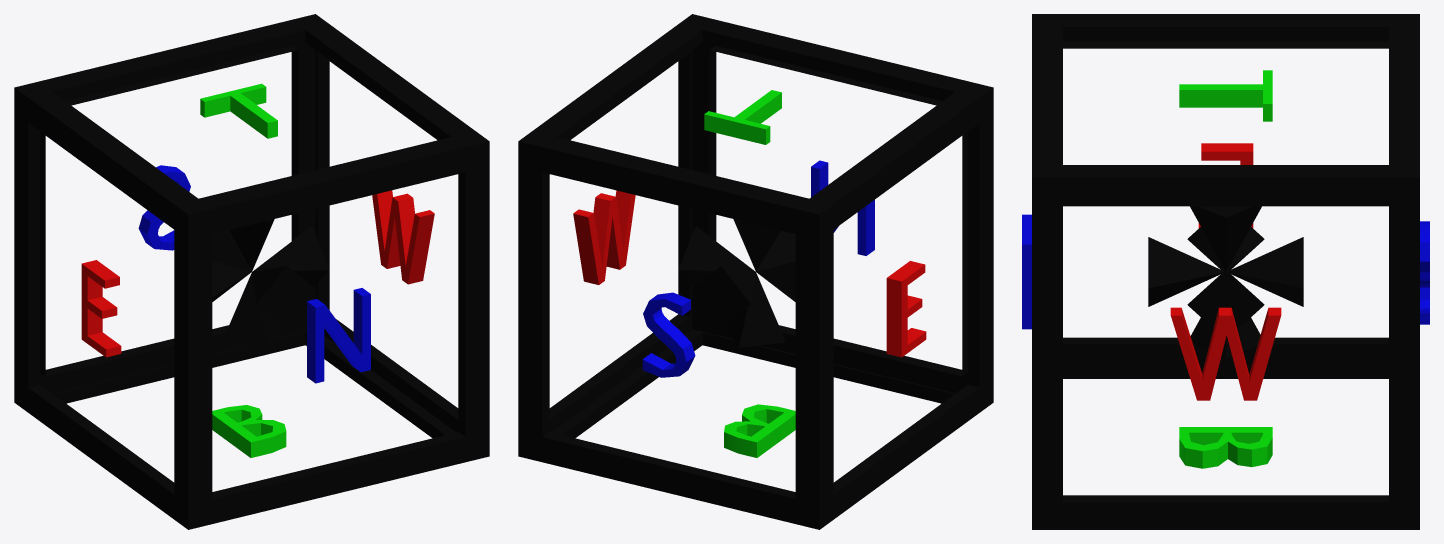
Rendered from TileSetup.fbx.
3 views of the same model, side by side, from view 1: azimuth 30°, elevation 25°; view 2: azimuth 150°, elevation 25°; view 3: azimuth 270°, elevation 25° (orthographic). The views are drawn at different scales.
Visible parts, largest first — view 1: polySurface62; view 2: polySurface62; view 3: polySurface62.
Boxes of the visible parts, box(x1,y1,x2,y2) form: polySurface62: box(14, 14, 489, 529); polySurface62: box(518, 14, 993, 529); polySurface62: box(1022, 14, 1429, 529).
Bounding box in the file's own units: 10.5 × 10.5 × 10.5.
